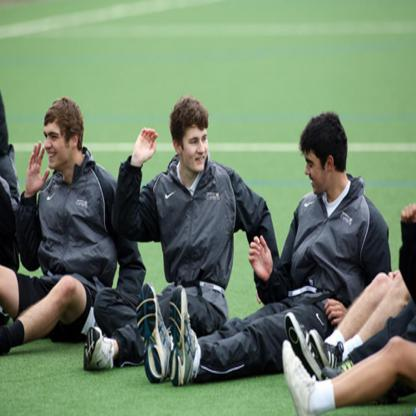face: (183, 117, 208, 173), (44, 125, 72, 170), (305, 146, 328, 196)
